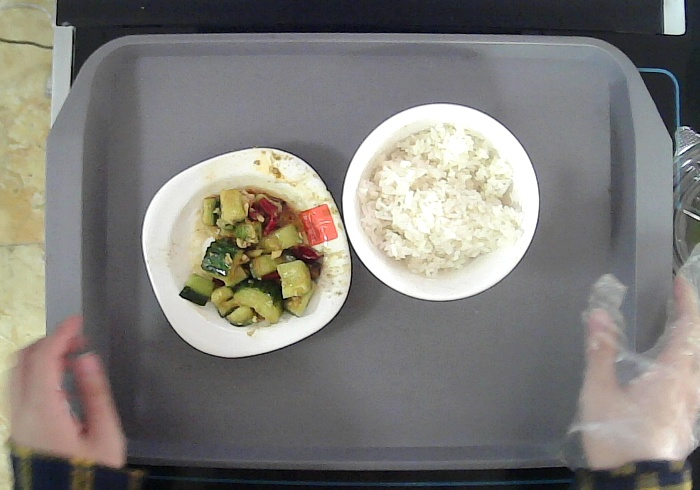SHKJ-Bai_Se_Si_Fang_Cai_Die: (141, 148, 350, 359)
SHKJ-Fan_Wan: (342, 103, 539, 302)
